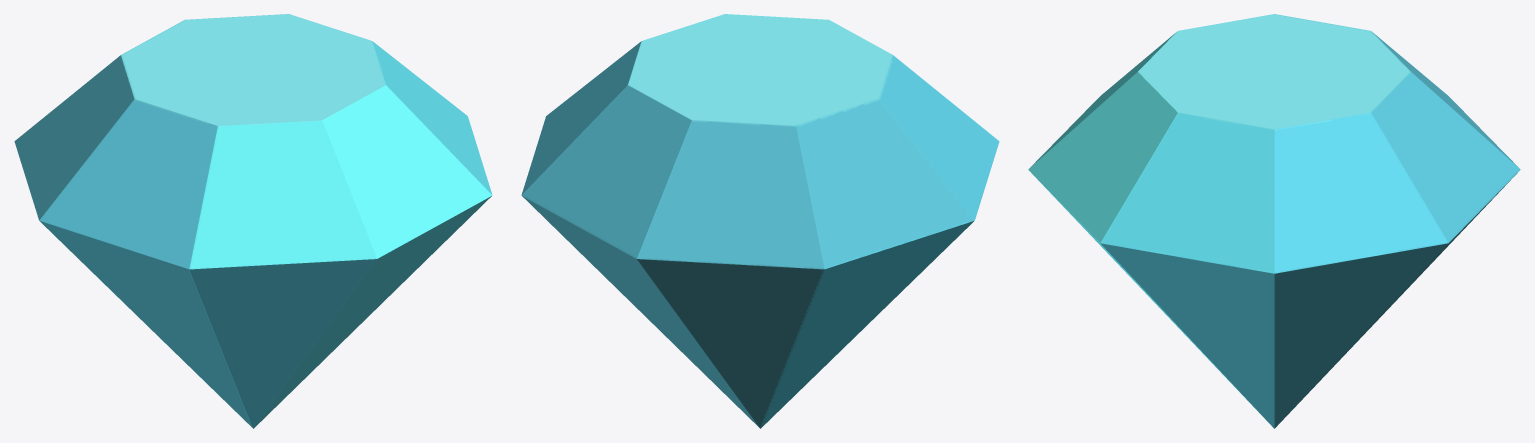
The model's file is 57_Ball_Diamond.fbx.
3 renders of one model, left to right at view 1: azimuth 30°, elevation 25°; view 2: azimuth 150°, elevation 25°; view 3: azimuth 270°, elevation 25°, orthographic.
Visible parts, largest first — view 1: Ball_Diamond; view 2: Ball_Diamond; view 3: Ball_Diamond.
Boxes of the visible parts, box(x1,y1,x2,y2) form: Ball_Diamond: box(14, 14, 492, 428); Ball_Diamond: box(521, 14, 999, 428); Ball_Diamond: box(1028, 14, 1520, 428).
Bounding box in the file's own units: 0.3722 × 0.2978 × 0.3722.
